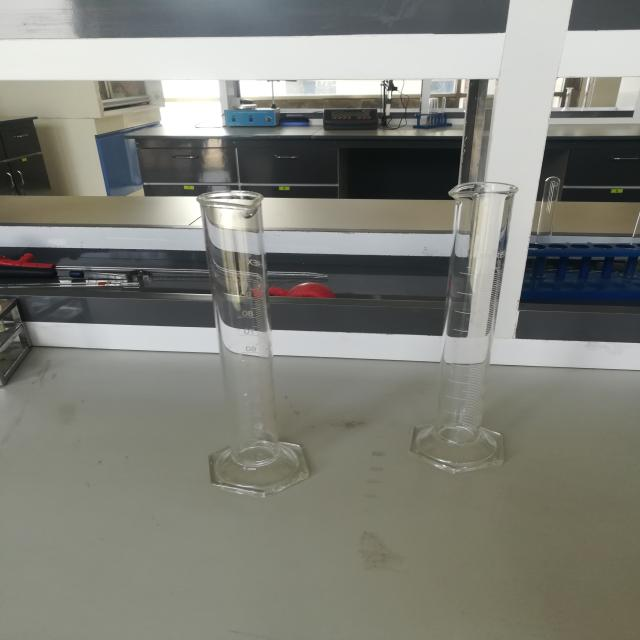Measuring_Cylinder: (366, 156, 568, 508), (151, 165, 332, 520)
